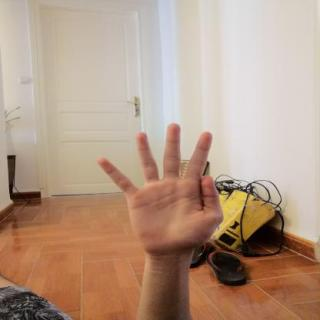SHEEN: (88, 117, 235, 261)
